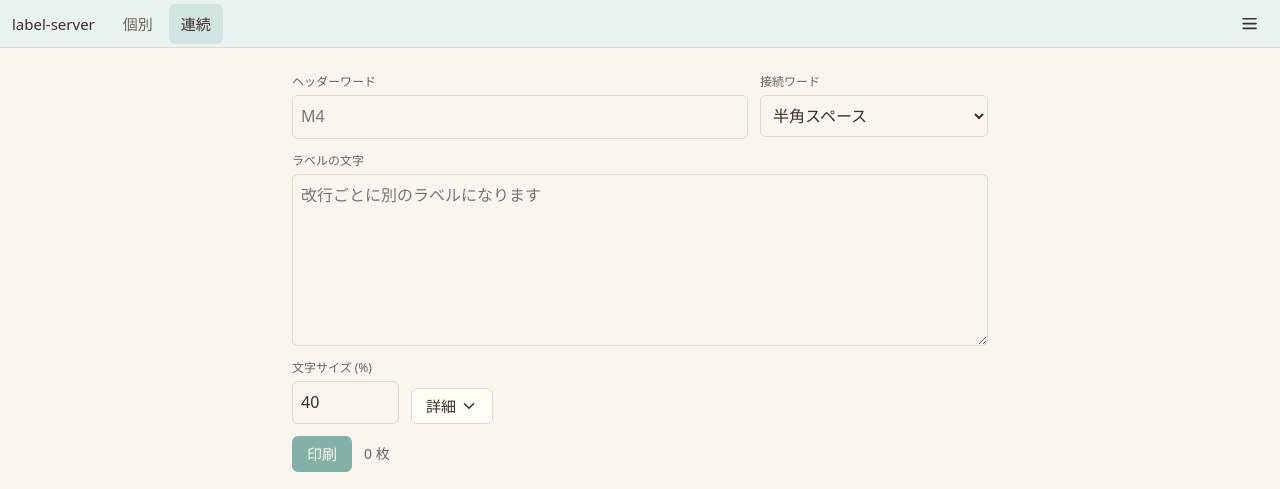
Scenario: App › routes / to the individual mode and /continuous to the batch one
This screenshot has width=1280, height=489.
Expected: the field labelled "ヘッダーワード" is shown, [292,95,748,139]
Click the link to "/" at (138, 24), box [123,14,153,34]
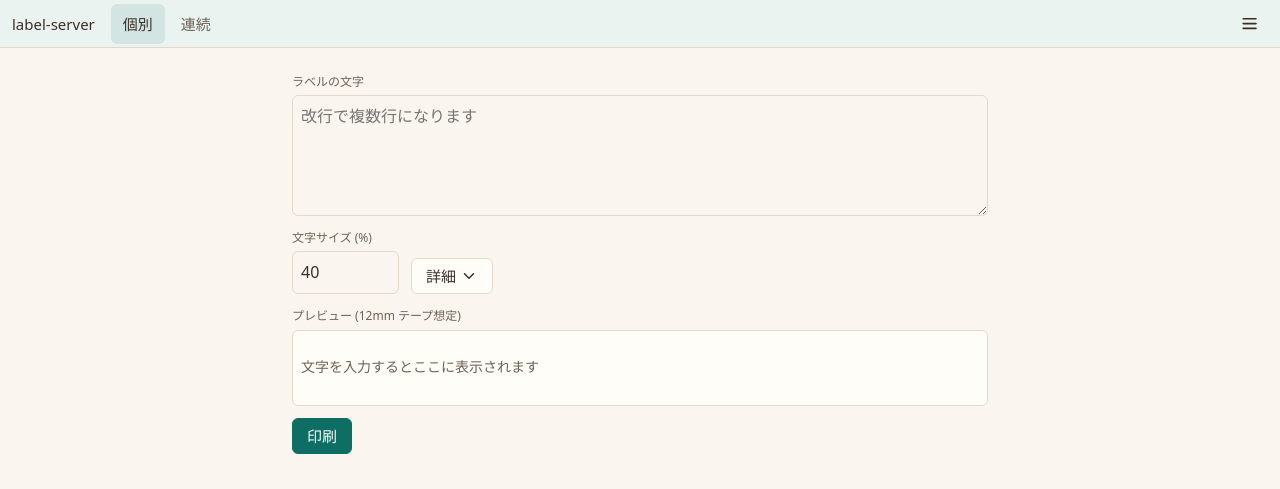
Expected: the text box labelled "ラベルの文字" is shown, [292,95,988,216]
Expected: the text "ヘッダーワード" is gone
